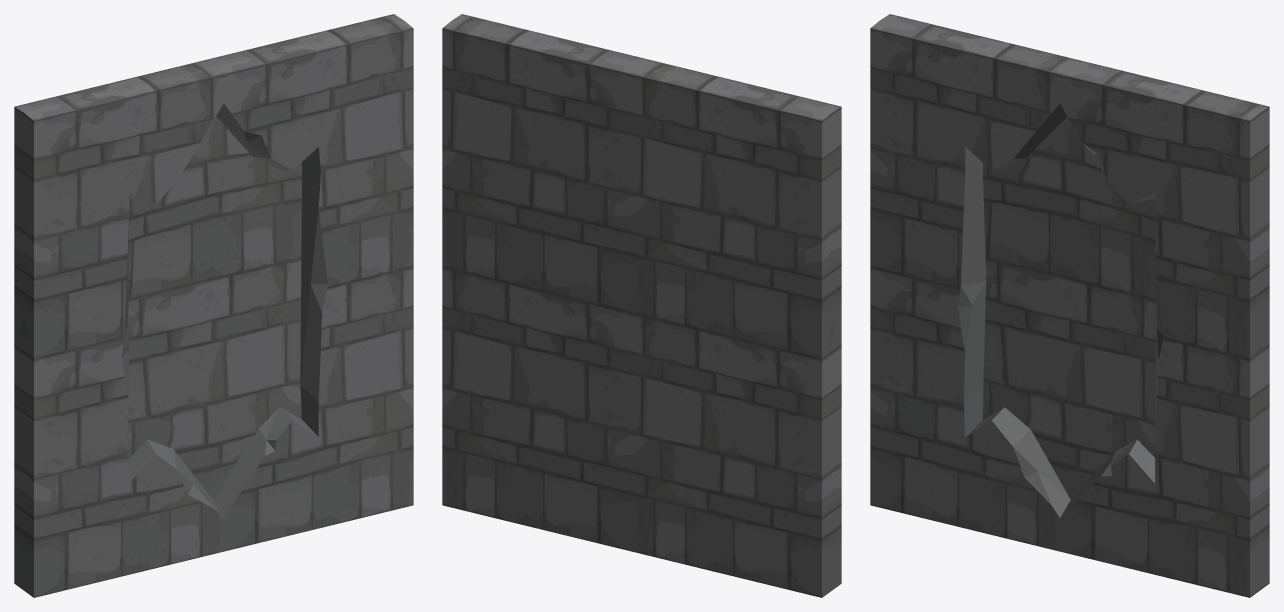
Rendered from wall_l_a.gltf.
The picture shows the model from 3 angles, left to right: view 1: azimuth 30°, elevation 25°; view 2: azimuth 150°, elevation 25°; view 3: azimuth 330°, elevation 25°; orthographic projection.
Visible parts, largest first — view 1: wall_l_a; view 2: wall_l_a; view 3: wall_l_a.
Part boxes in pixels (box(x1,y1,x2,y2)): wall_l_a: box(14, 14, 413, 597); wall_l_a: box(442, 14, 841, 597); wall_l_a: box(870, 14, 1269, 597).
Bounding box in the file's own units: 5 × 6.01 × 0.45.
Materials: 1 (1 with a texture image).
